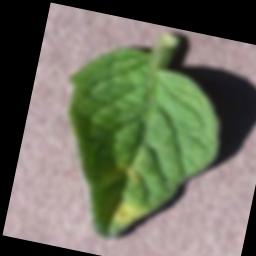Leaf_Mold: (97, 156, 150, 197), (105, 194, 152, 233)
